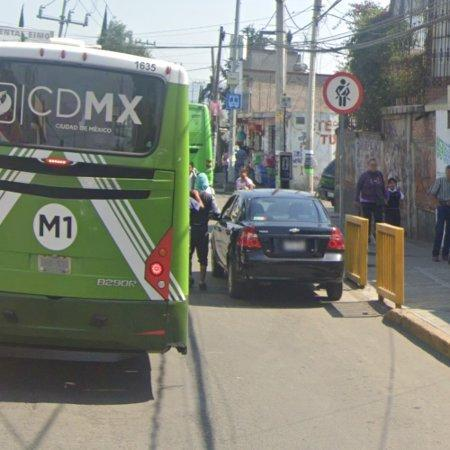buses: (0, 42, 188, 363)
